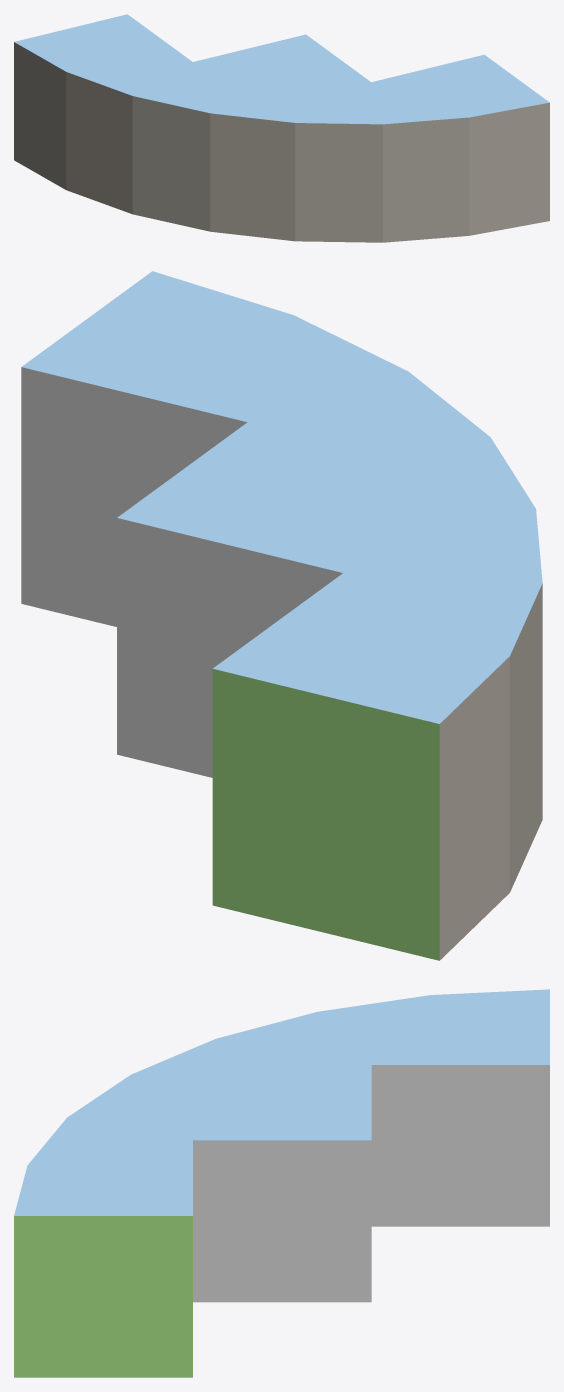
File: Wall_Curve_Outer_4x4_Mid.glb
3 views of the same model, one above another, from view 1: azimuth 30°, elevation 25°; view 2: azimuth 150°, elevation 25°; view 3: azimuth 270°, elevation 25° (orthographic). The views are drawn at different scales.
Parts seen in each view (by area): view 1: Wall_Curve_Outer_4x4_Mid; view 2: Wall_Curve_Outer_4x4_Mid; view 3: Wall_Curve_Outer_4x4_Mid.
Part boxes in pixels (x1,y1,x2,y2): Wall_Curve_Outer_4x4_Mid: [14, 14, 549, 242]; Wall_Curve_Outer_4x4_Mid: [21, 271, 542, 960]; Wall_Curve_Outer_4x4_Mid: [14, 989, 549, 1377].
Bounding box in the file's own units: 300 × 100 × 300.
